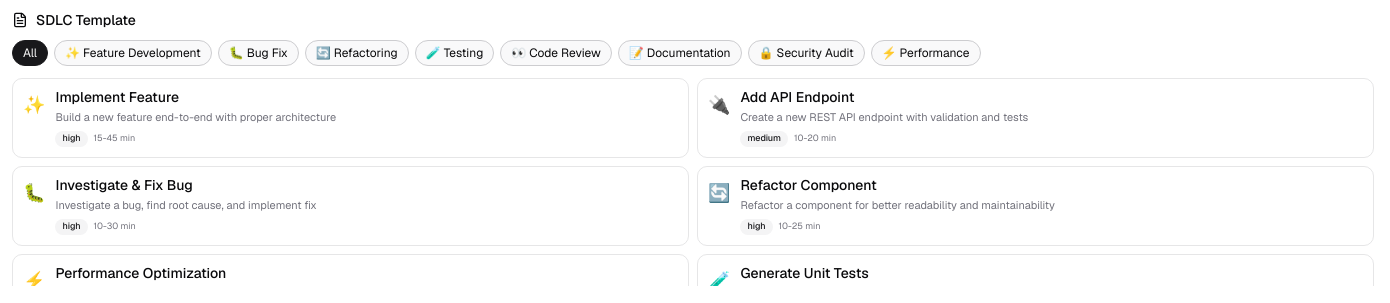
TemplatePicker › shows Clear button after selecting a template
This screenshot has width=1390, height=303.
Step 1. Click the text "Implement Feature" → click(117, 97), box [56,88,179,106]
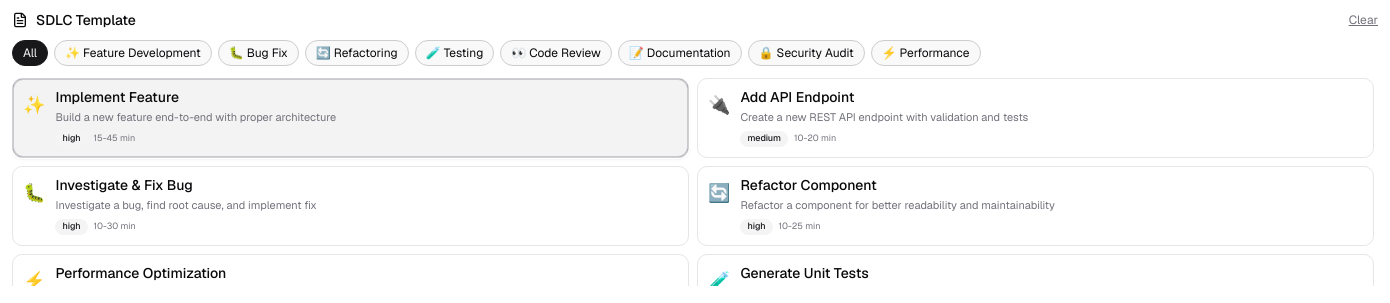
Expected: the button "Clear" is shown, [1349,12,1378,28]
